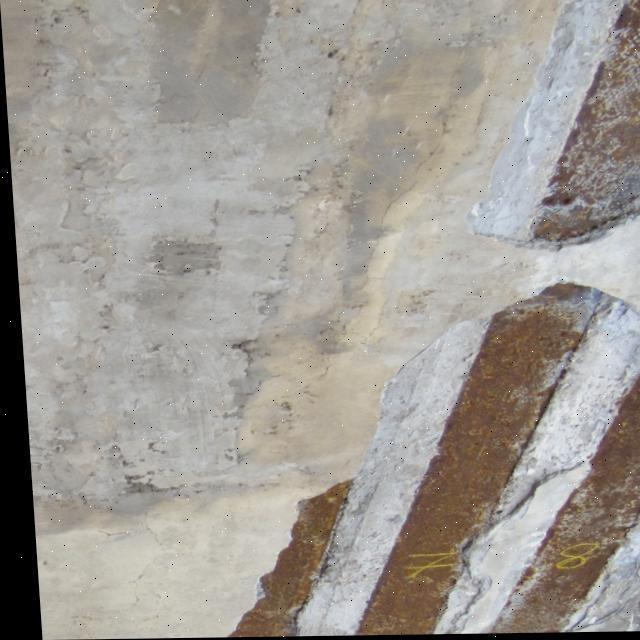D10: (534, 2, 639, 249)
